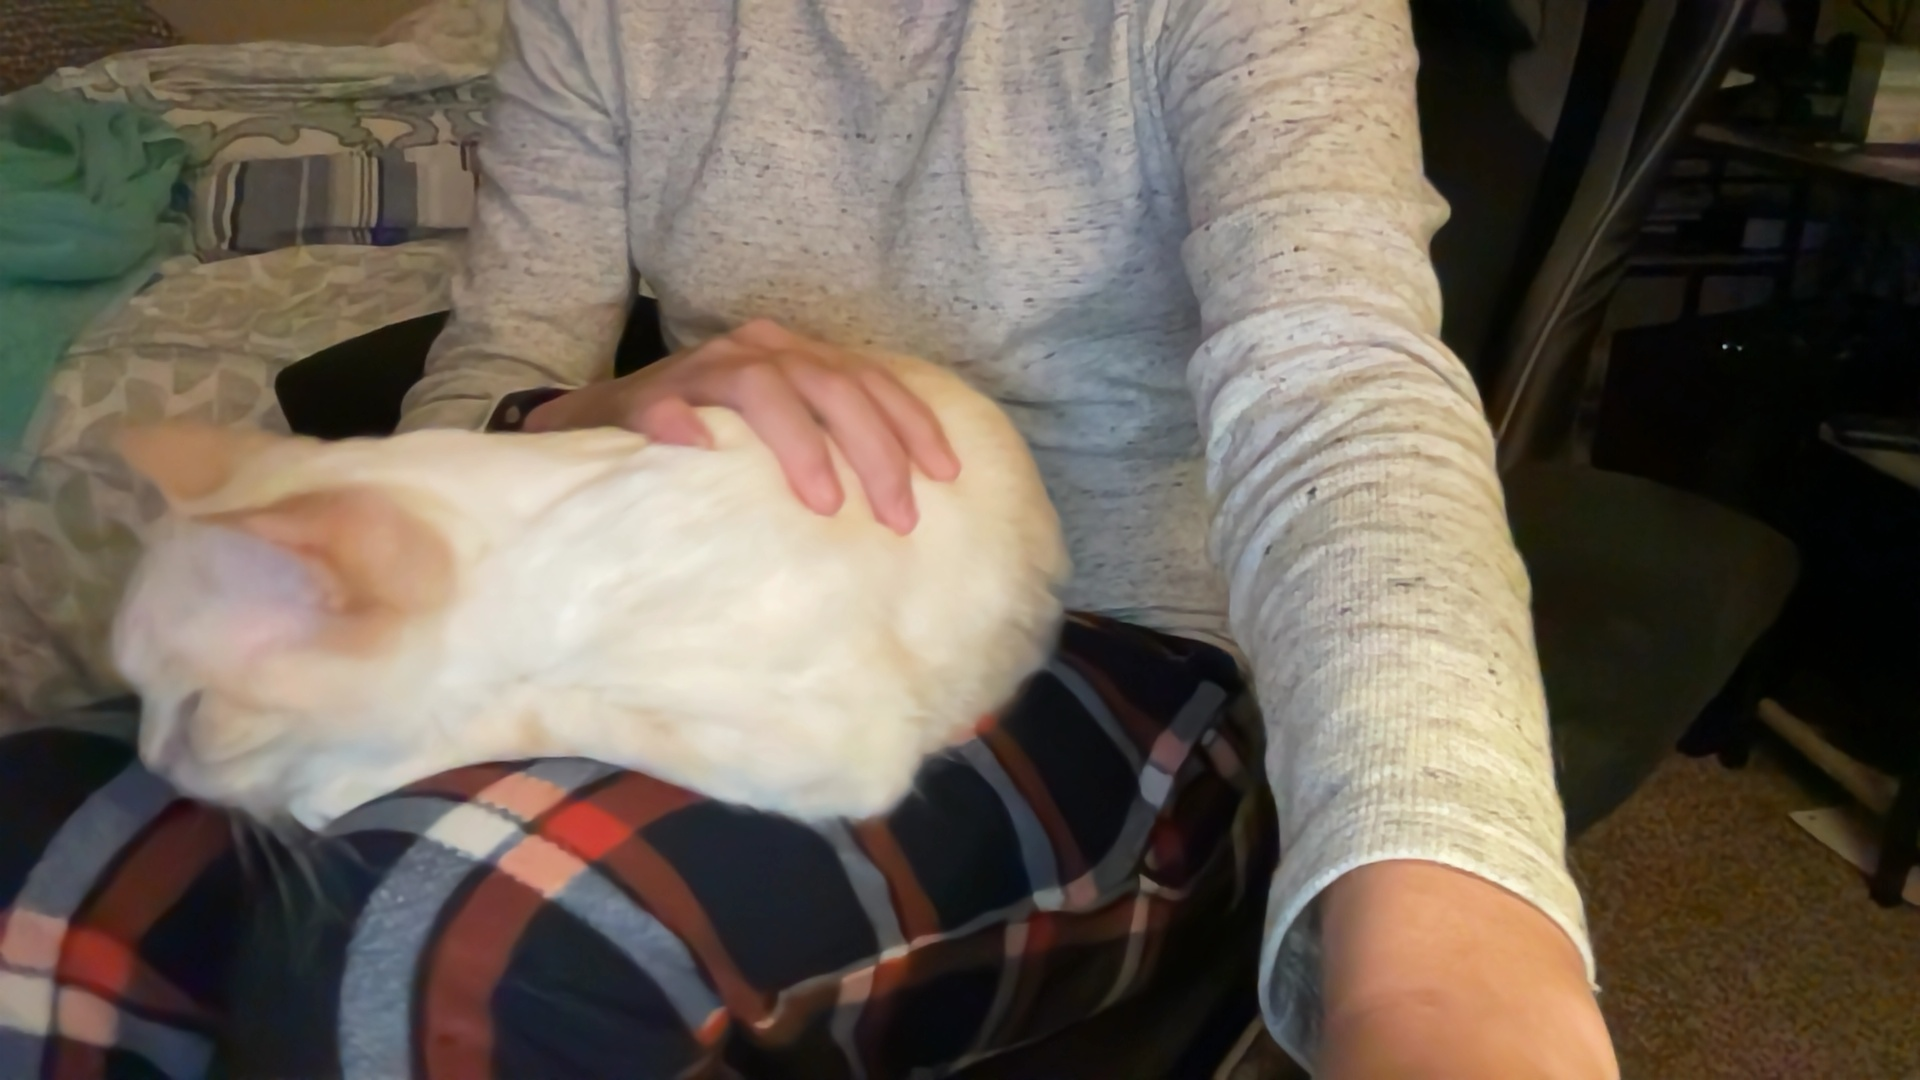cat: (104, 344, 1093, 836)
